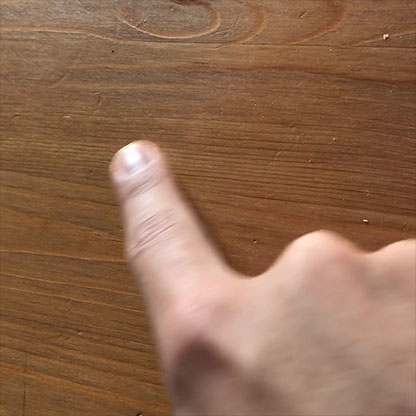fingertip: (94, 130, 182, 196)
